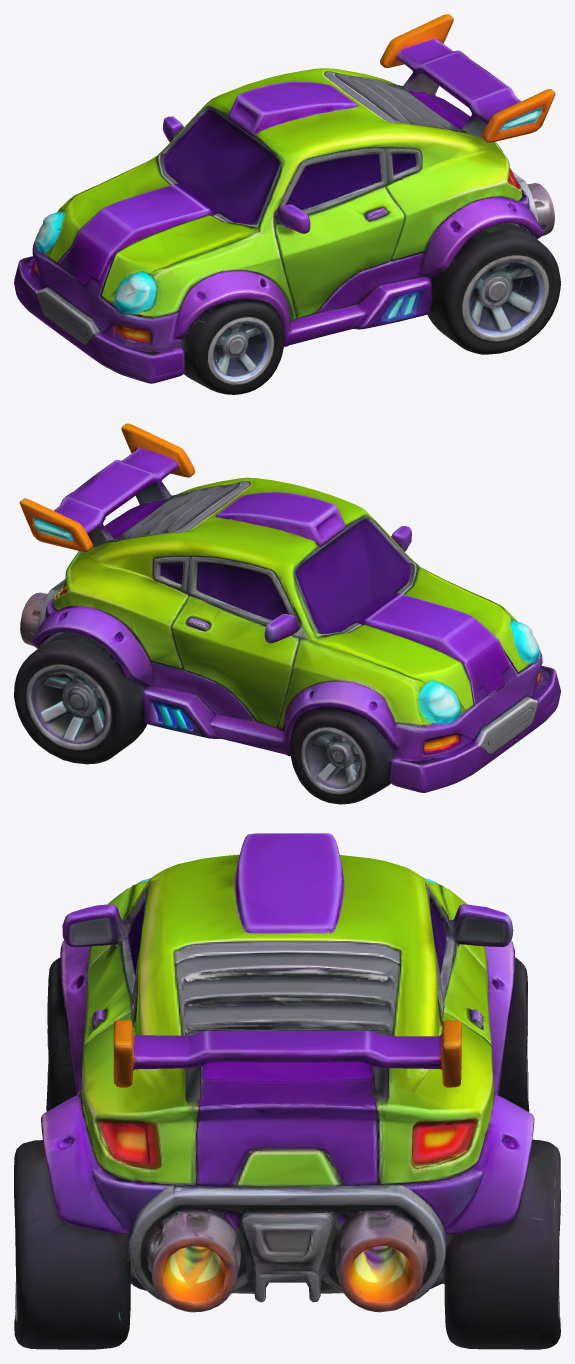
The model's file is venom.glb.
3 renders of one model, top to bottom at view 1: azimuth 30°, elevation 25°; view 2: azimuth 150°, elevation 25°; view 3: azimuth 270°, elevation 25°, orthographic. The views are drawn at different scales.
Parts seen in each view (by area): view 1: Mesh_0; view 2: Mesh_0; view 3: Mesh_0.
Boxes of the visible parts, left/top/right/bottom form: Mesh_0: left=14, top=14, right=560, bottom=394; Mesh_0: left=14, top=423, right=560, bottom=804; Mesh_0: left=14, top=833, right=560, bottom=1349.
Bounding box in the file's own units: 1.9 × 0.9324 × 1.24.
1 material, 1 textured.
